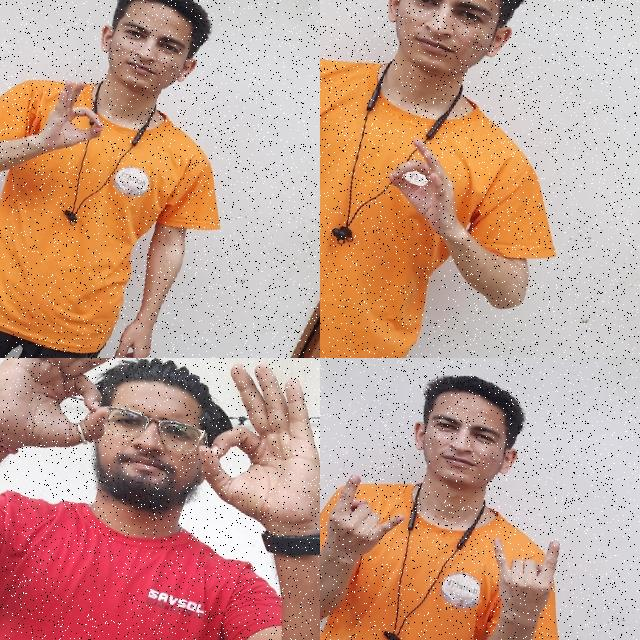Corna: (466, 514, 578, 636), (320, 462, 417, 579)
Okay: (160, 358, 320, 564), (0, 358, 146, 487), (366, 124, 487, 253), (25, 60, 127, 175)
